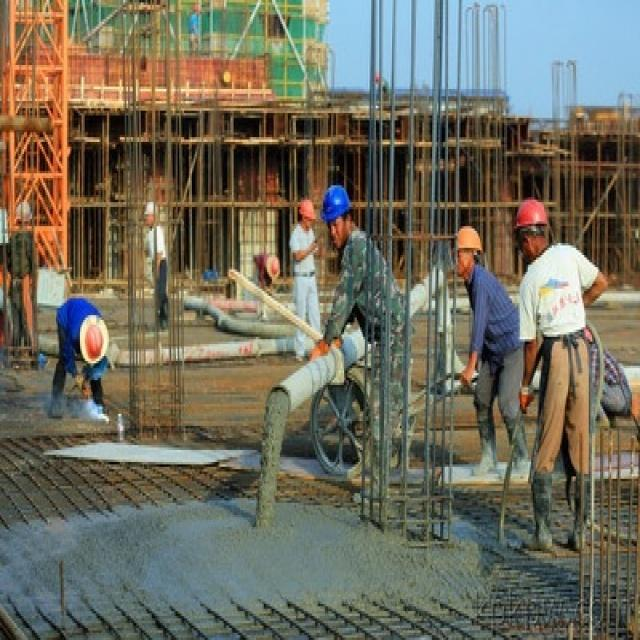helmet: (512, 262, 549, 342), (319, 241, 351, 331), (79, 421, 109, 487), (455, 301, 482, 368), (12, 265, 30, 307), (299, 263, 315, 304), (140, 266, 156, 302)
